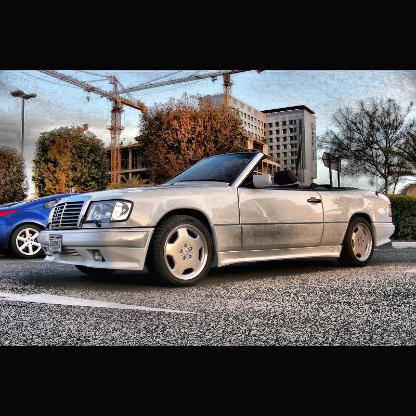Mercedes-Benz 300-Class Convertible 1993: (38, 153, 397, 284)
